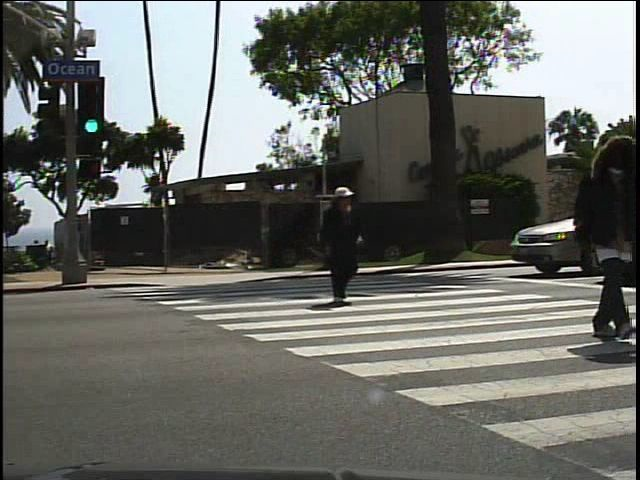person: (565, 128, 636, 350), (312, 179, 367, 321)
